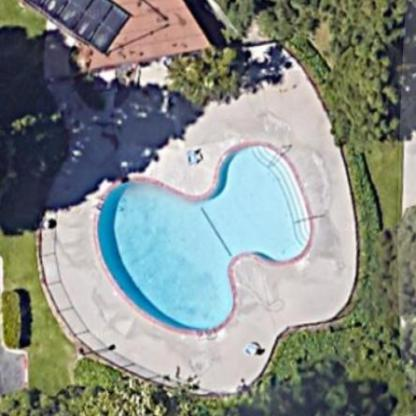pool: (84, 133, 337, 345)
